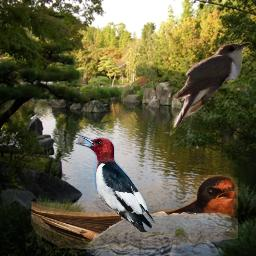Cuckoo: (170, 41, 252, 139)
Swallow: (31, 174, 238, 249)
Woodpecker: (75, 133, 157, 232)
